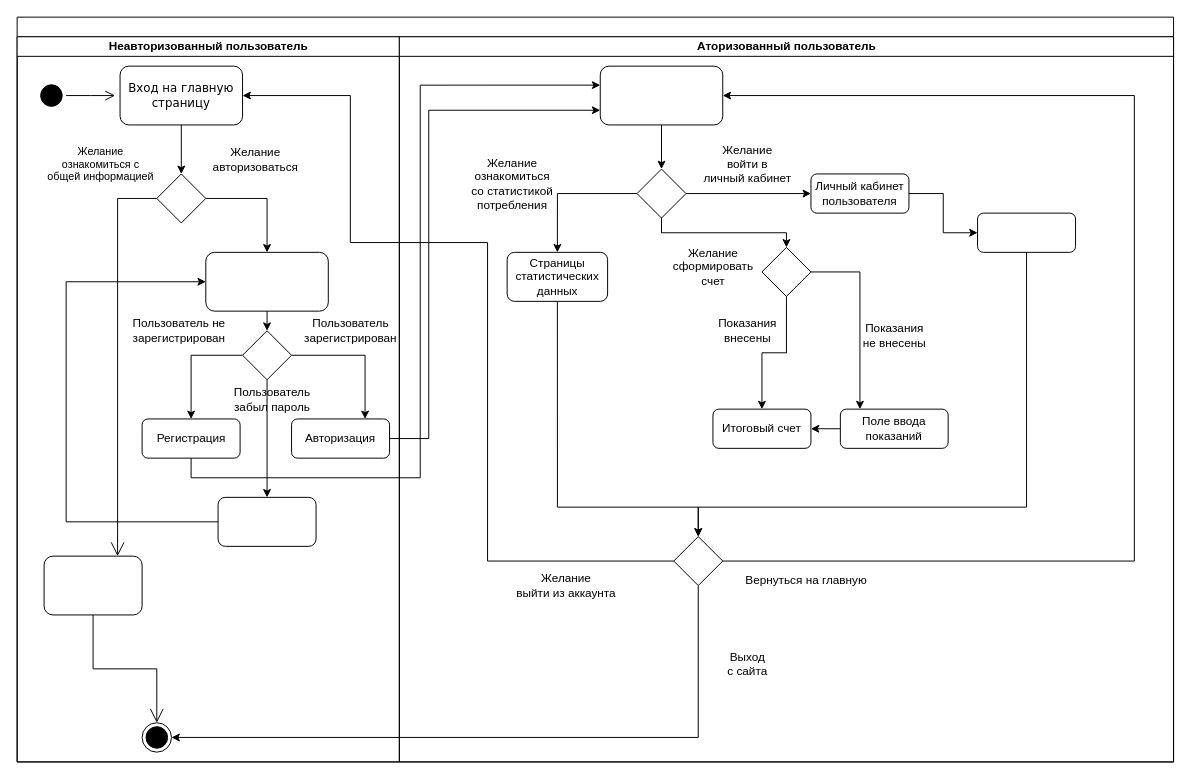
This 1191x779 diagram has some shape labels left out. Here are the shapes that lost their labels. From the top down, the box of each, then its label:
(599, 65, 723, 125): Просмотр главной страницы
(977, 212, 1076, 252): Редактирование аккаунта
(205, 251, 328, 311): Вход на страницу авторизации
(217, 496, 316, 546): Восстановление пароля
(43, 555, 142, 615): Закрытие сайта
